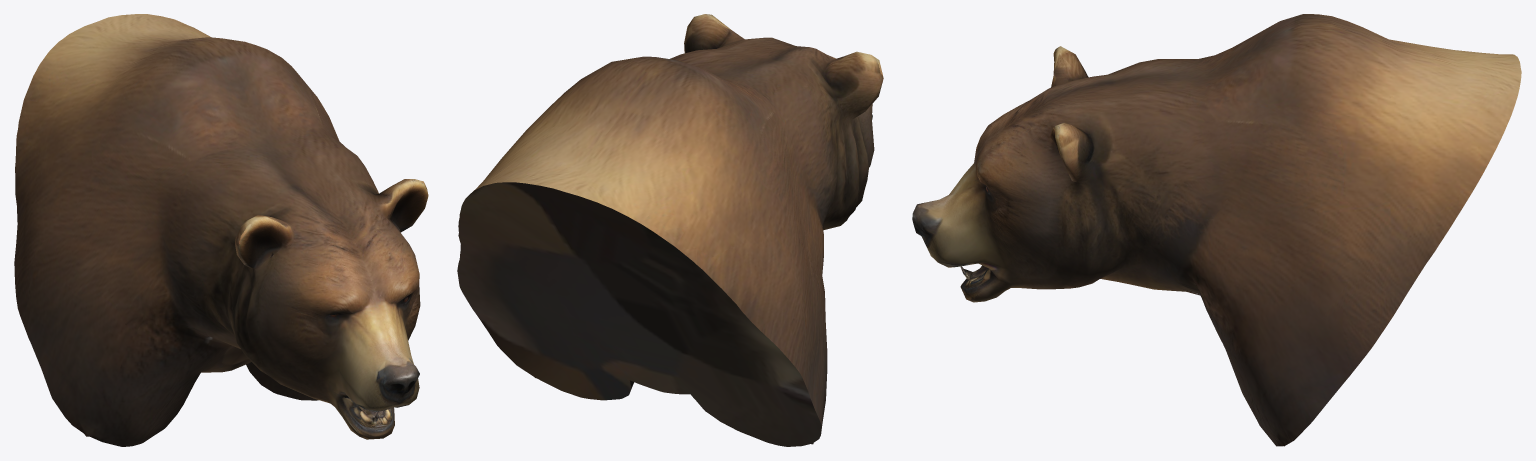
The model's file is asset.glb.
The picture shows the model from 3 angles, left to right: view 1: azimuth 30°, elevation 25°; view 2: azimuth 150°, elevation 25°; view 3: azimuth 270°, elevation 25°; orthographic projection. The views are drawn at different scales.
Visible parts, largest first — view 1: bear.002; view 2: bear.002; view 3: bear.002.
Boxes of the visible parts, x1,y1,x2,y2 form: bear.002: (14, 14, 428, 446); bear.002: (457, 14, 883, 446); bear.002: (912, 14, 1521, 446).
Size of the model in its own units: 1.29 by 1.35 by 2.02.
1 material, 1 textured.
